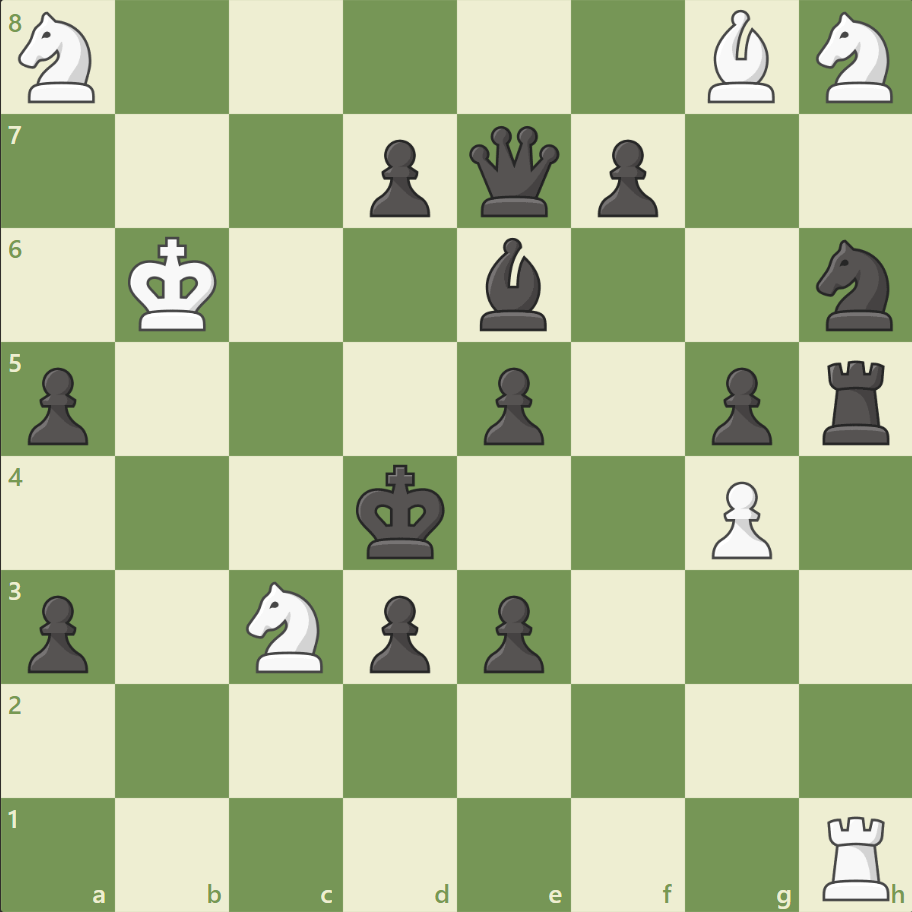B: (698, 6, 782, 109)
K: (124, 231, 224, 339)
N: (11, 7, 108, 110), (806, 7, 903, 110), (238, 575, 335, 677)
P: (701, 473, 776, 564)
R: (814, 806, 897, 904)
b: (471, 233, 555, 336)
k: (351, 458, 451, 566)
n: (806, 234, 903, 337)
p: (20, 359, 95, 450), (474, 359, 549, 450), (701, 359, 776, 450), (20, 586, 95, 677), (474, 586, 549, 677), (361, 132, 435, 223), (588, 132, 662, 223), (361, 586, 435, 677)
q: (464, 122, 563, 222)
r: (814, 352, 897, 449)
